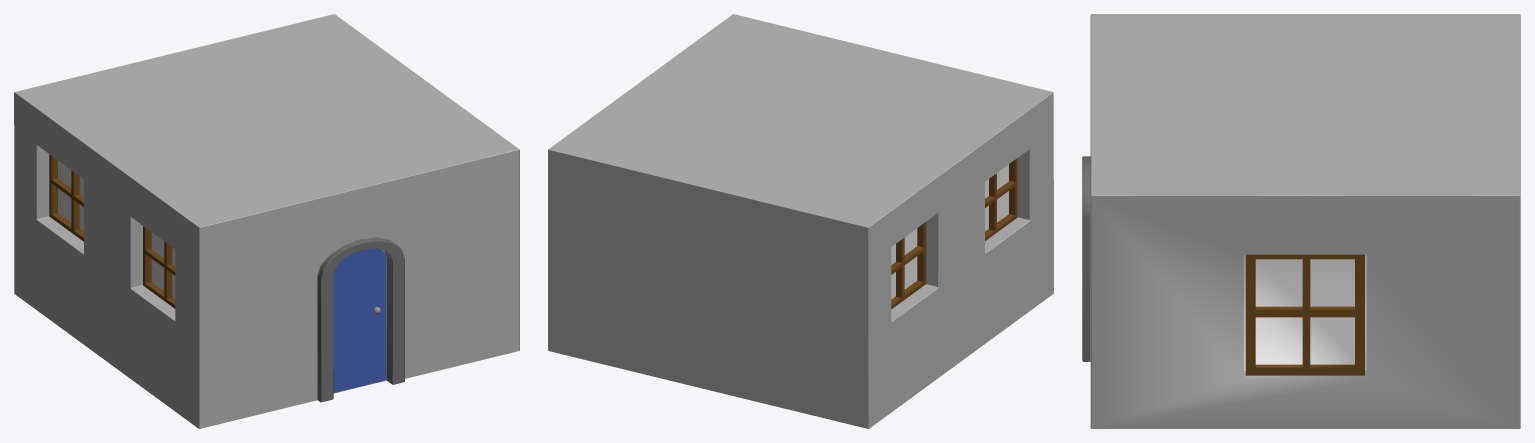
The model's file is B_Door_2.fbx.
3 renders of one model, left to right at view 1: azimuth 30°, elevation 25°; view 2: azimuth 150°, elevation 25°; view 3: azimuth 270°, elevation 25°, orthographic. The views are drawn at different scales.
Visible parts, largest first — view 1: Wall.001, Door.001, Arch, Window_2.001, Window_1; view 2: Wall.001, Window_2.001, Window_1; view 3: Wall.001, Big_Window.001, Arch.
Part boxes in pixels (x1,y1,x2,y2): Wall.001: (14,14,519,428); Door.001: (333,248,386,392); Arch: (317,237,404,402); Window_2.001: (49,154,83,241); Window_1: (143,226,175,308); Wall.001: (548,14,1053,428); Window_2.001: (891,222,926,309); Window_1: (985,158,1017,240); Wall.001: (1090,14,1520,428); Big_Window.001: (1245,254,1364,375); Arch: (1082,156,1090,361).
Bounding box in the file's own units: 500 × 300 × 510.
